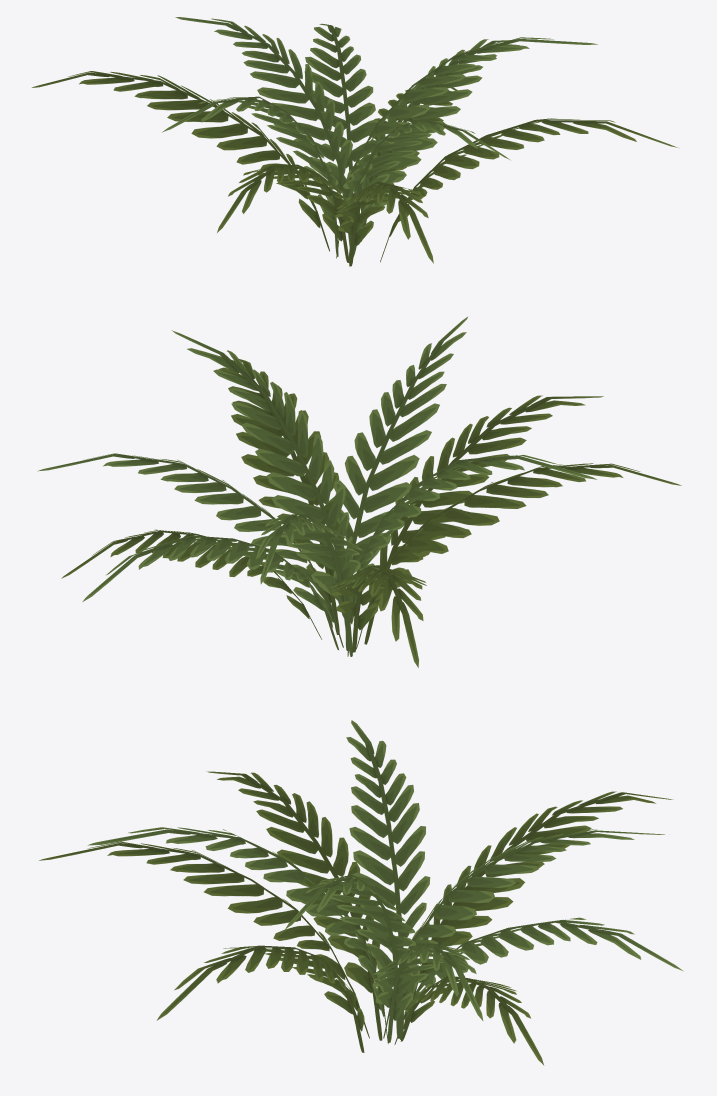
The model's file is enchanted_SM_Env_Fern_02.gltf.
3 views of the same model, one above another, from view 1: azimuth 30°, elevation 25°; view 2: azimuth 150°, elevation 25°; view 3: azimuth 270°, elevation 25° (orthographic). The views are drawn at different scales.
Visible parts, largest first — view 1: SM_Env_Fern_02_LOD0; view 2: SM_Env_Fern_02_LOD0; view 3: SM_Env_Fern_02_LOD0.
Boxes of the visible parts, left/top/right/bottom form: SM_Env_Fern_02_LOD0: left=31, top=17, right=677, bottom=266; SM_Env_Fern_02_LOD0: left=37, top=316, right=681, bottom=667; SM_Env_Fern_02_LOD0: left=39, top=720, right=683, bottom=1065.
Size of what is drawn, in the model's own units: 1.76 by 0.7331 by 1.97.
1 material, 1 textured.
